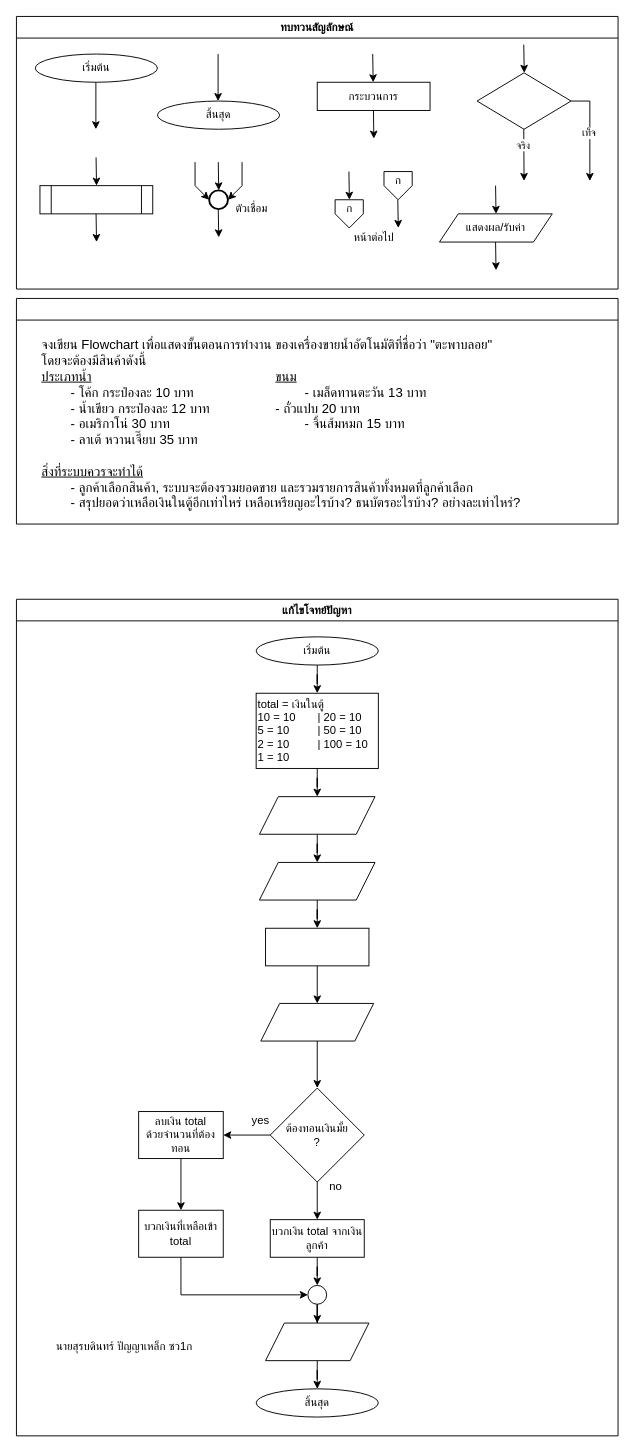
The diagram is 635 pixels wide and 1452 high, and some of its shapes have lost their labels. Each missing label, with the box of its shape:
p = สินค้าที่เลือก: (258, 862, 375, 900)
ประโยคเงื่อนไข: (476, 72, 571, 129)
ผลรวม = (sum)p: (265, 927, 369, 966)
ฟังก์ชัน/โมดูล: (39, 185, 153, 214)
รับเงินลูกค้า: (260, 1003, 374, 1041)
สรุปยอดเงิน ที่เหลือ: (265, 1322, 369, 1361)
แสดงสินค้า: (258, 796, 375, 834)
โจทย์ปัญหา: (16, 298, 618, 524)
